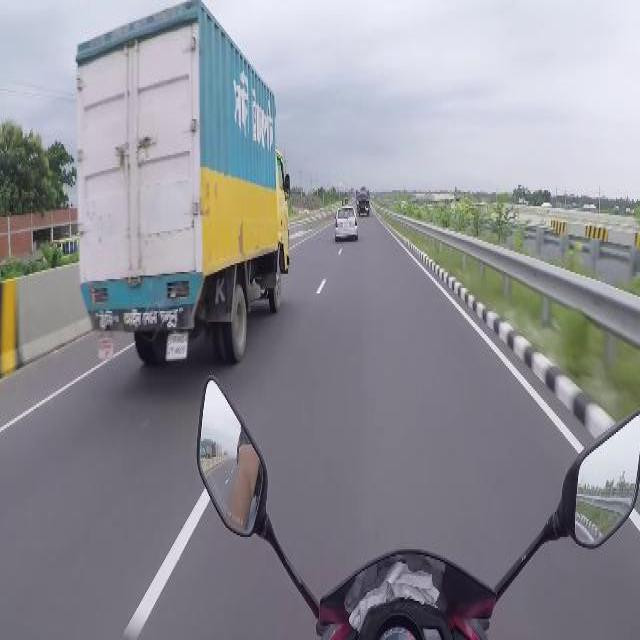TRUCK: (70, 0, 286, 375)
